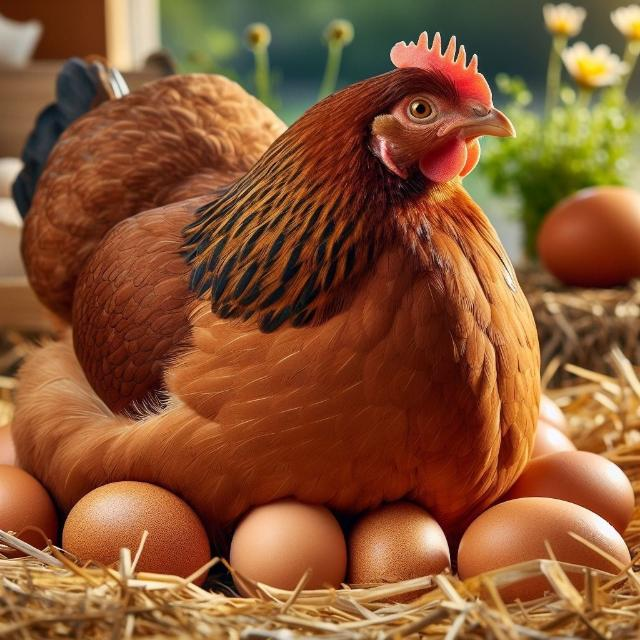Chicken: (11, 33, 539, 539)
